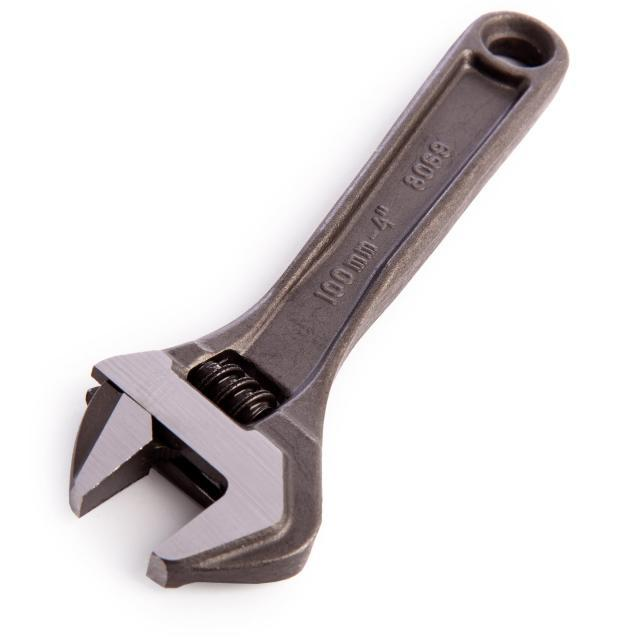wrench: (64, 8, 574, 592)
